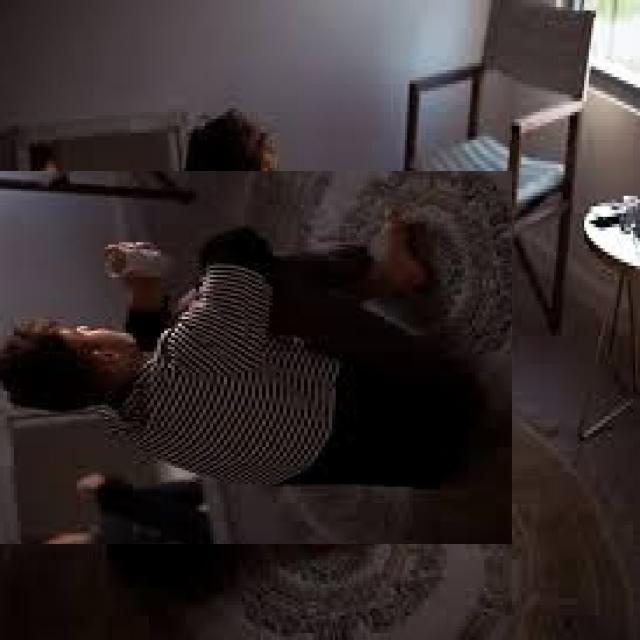NotFall: (0, 272, 496, 524)
